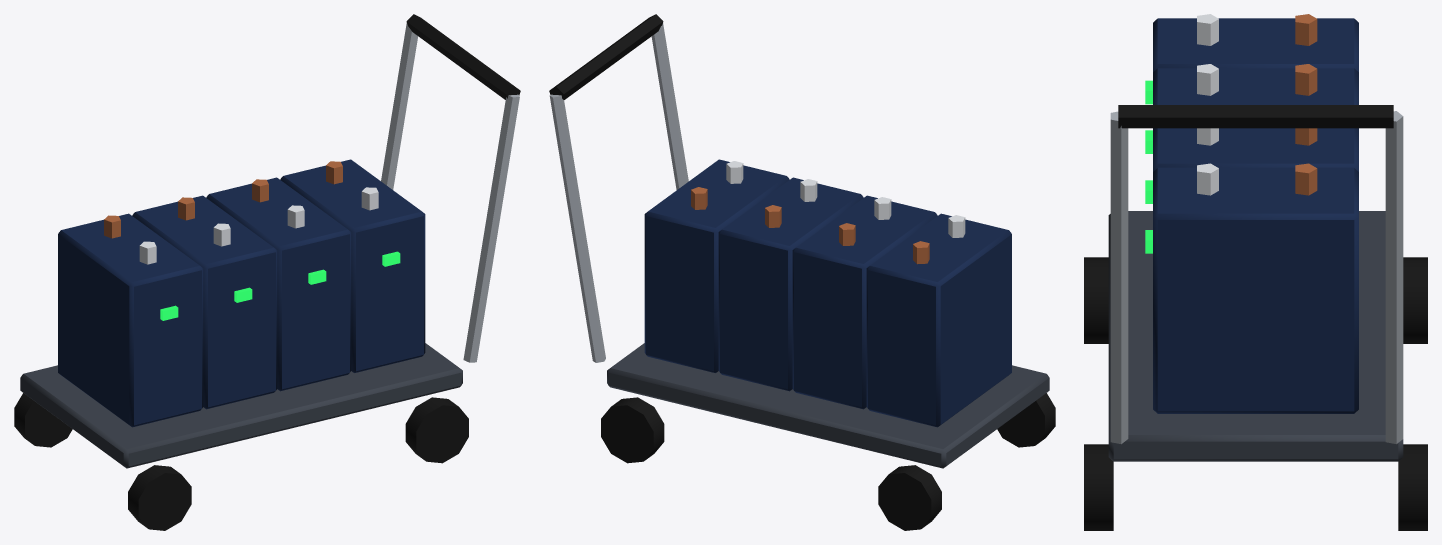
The model's file is capacitor_battery_trolley.glb.
3 views of the same model, side by side, from view 1: azimuth 30°, elevation 25°; view 2: azimuth 150°, elevation 25°; view 3: azimuth 270°, elevation 25° (orthographic). The views are drawn at different scales.
Visible parts, largest first — view 1: capacitor_battery_trolley; view 2: capacitor_battery_trolley; view 3: capacitor_battery_trolley.
Part boxes in pixels (bbox=[...]): capacitor_battery_trolley: bbox=[14, 14, 520, 530]; capacitor_battery_trolley: bbox=[549, 14, 1055, 530]; capacitor_battery_trolley: bbox=[1084, 14, 1427, 530].
Size of the model in its own units: 1.29 by 1.08 by 0.7.
